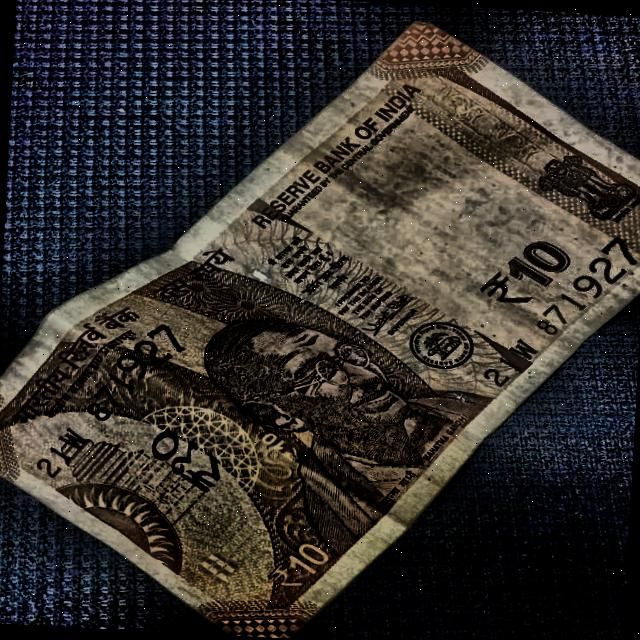-10-: (15, 0, 640, 640)
